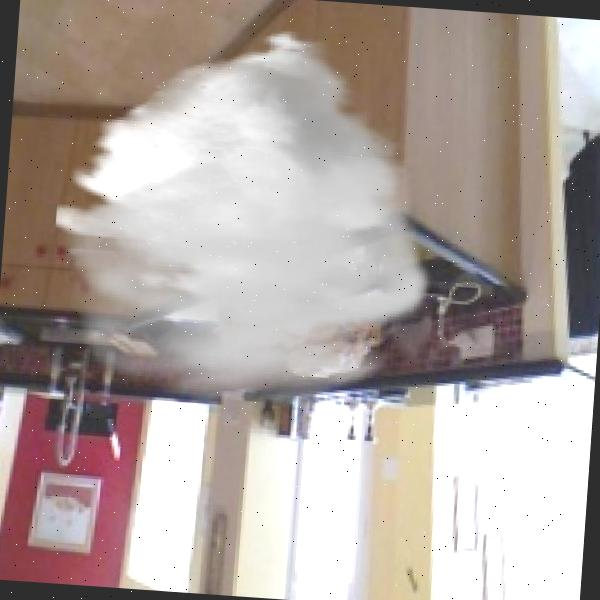smoke: (44, 13, 453, 419)
